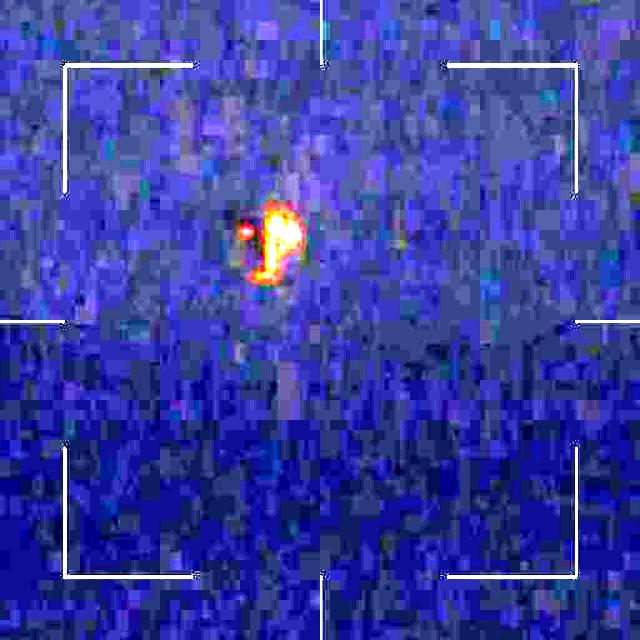bird: (229, 198, 321, 289)
